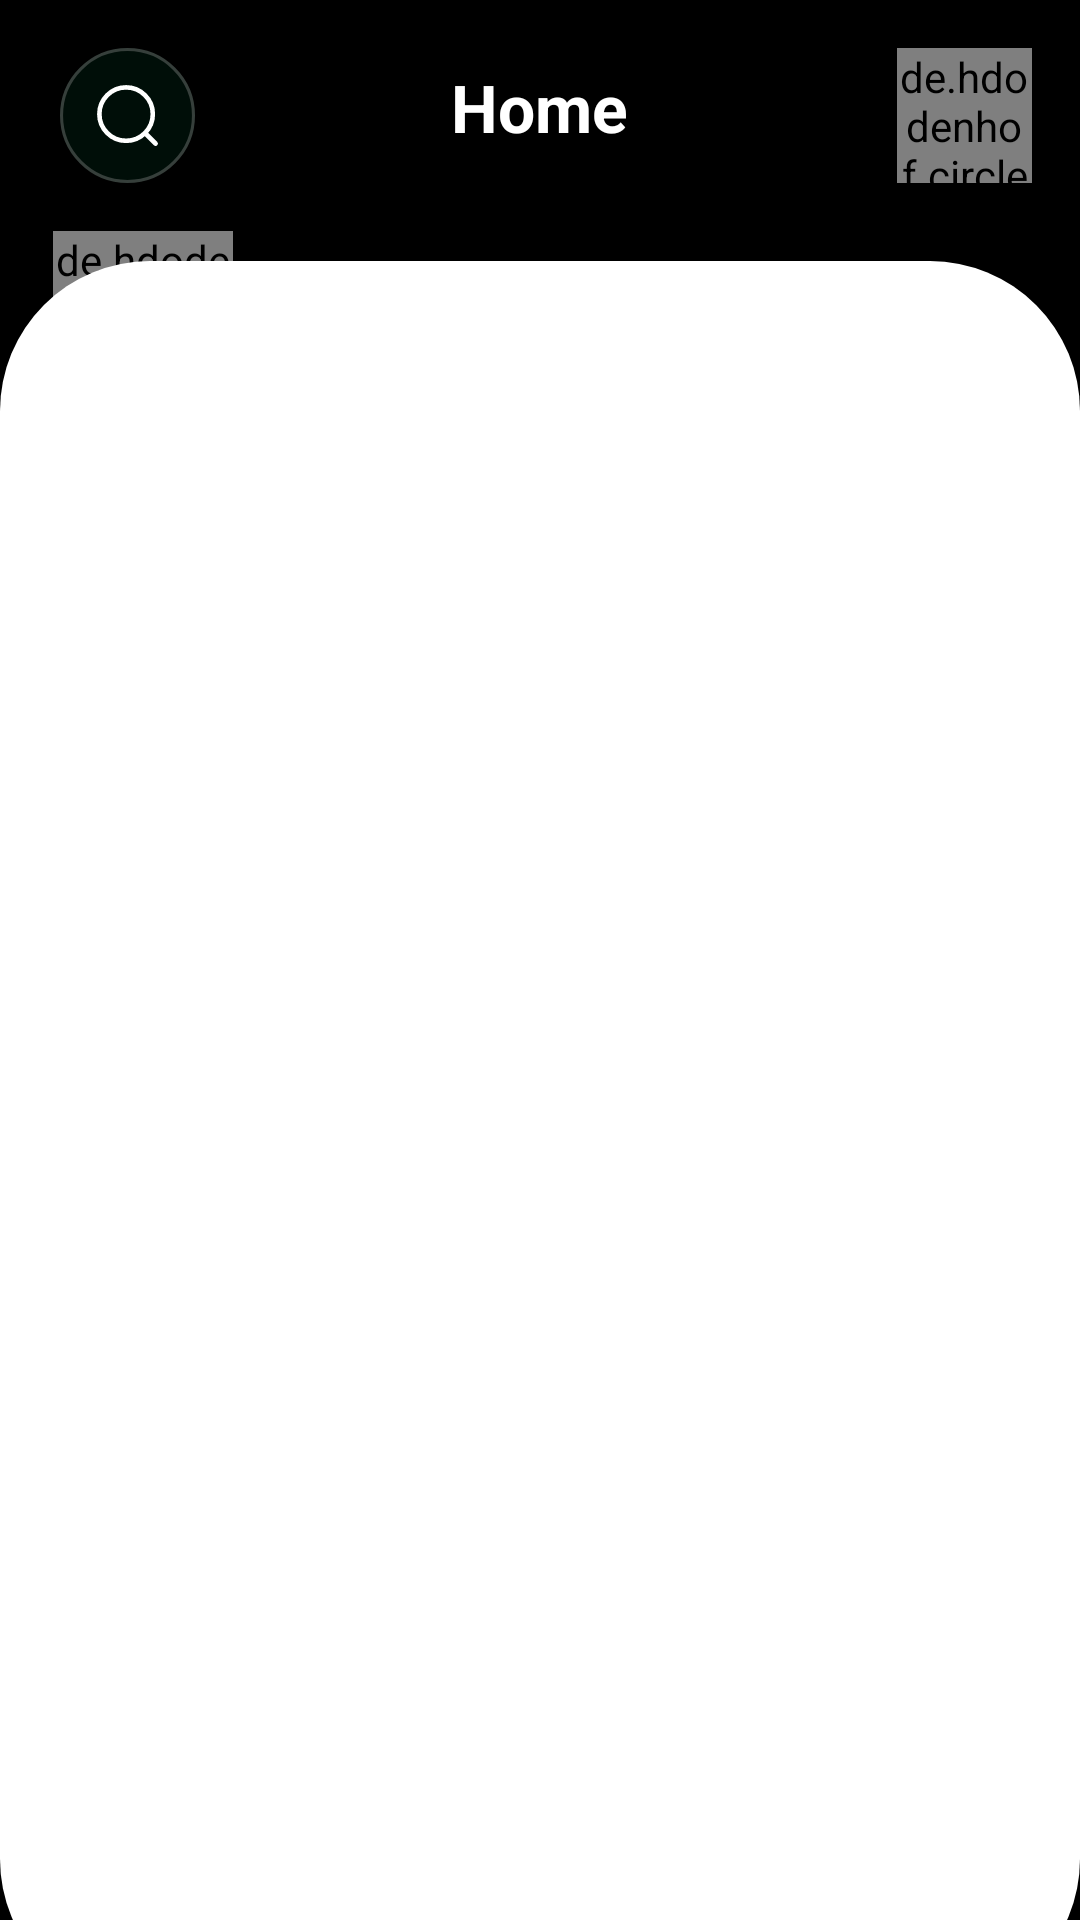

Screen size 1080px×1920px. Icon name, then its box in pixels as [left=x1, top=y1, right=x2, bottom=y2]:
search: [left=60, top=48, right=195, bottom=183]
